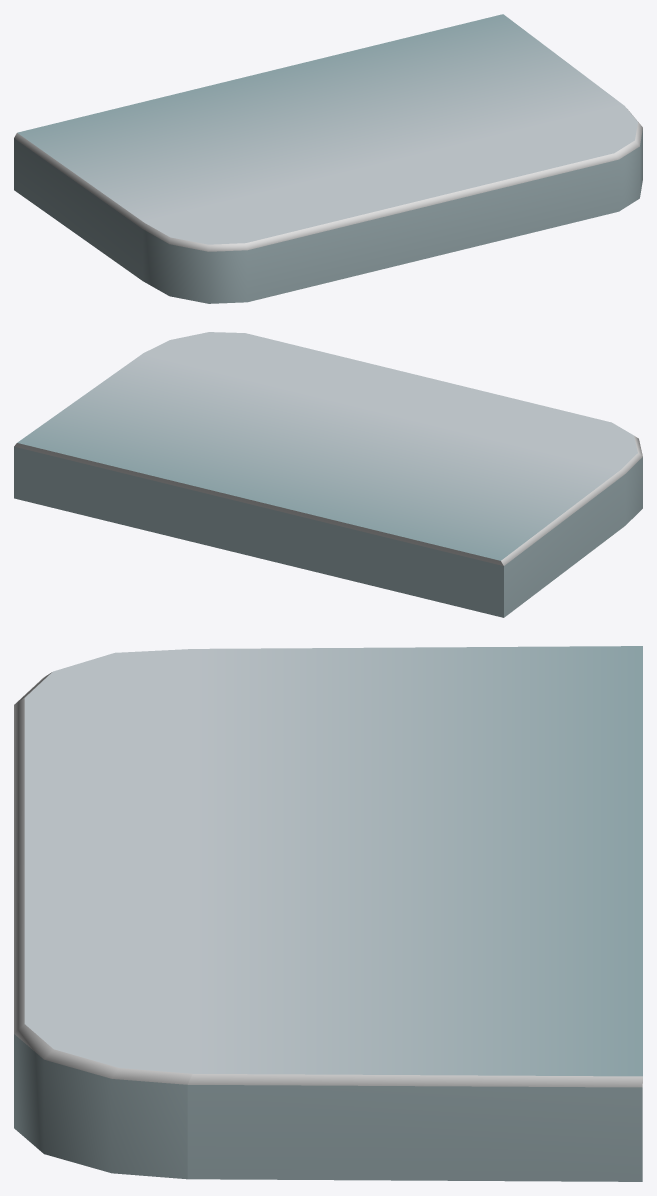
File: PartySupplyStorePlateWide.glb
The picture shows the model from 3 angles, top to bottom: view 1: azimuth 30°, elevation 25°; view 2: azimuth 150°, elevation 25°; view 3: azimuth 270°, elevation 25°; orthographic projection. The views are drawn at different scales.
Visible parts, largest first — view 1: PartySupplyStorePlateWide; view 2: PartySupplyStorePlateWide; view 3: PartySupplyStorePlateWide.
Part boxes in pixels (x1,y1,x2,y2): PartySupplyStorePlateWide: (14, 14, 642, 303); PartySupplyStorePlateWide: (14, 332, 642, 617); PartySupplyStorePlateWide: (14, 646, 642, 1181).
Bounding box in the file's own units: 2.4 × 0.2637 × 1.46.
